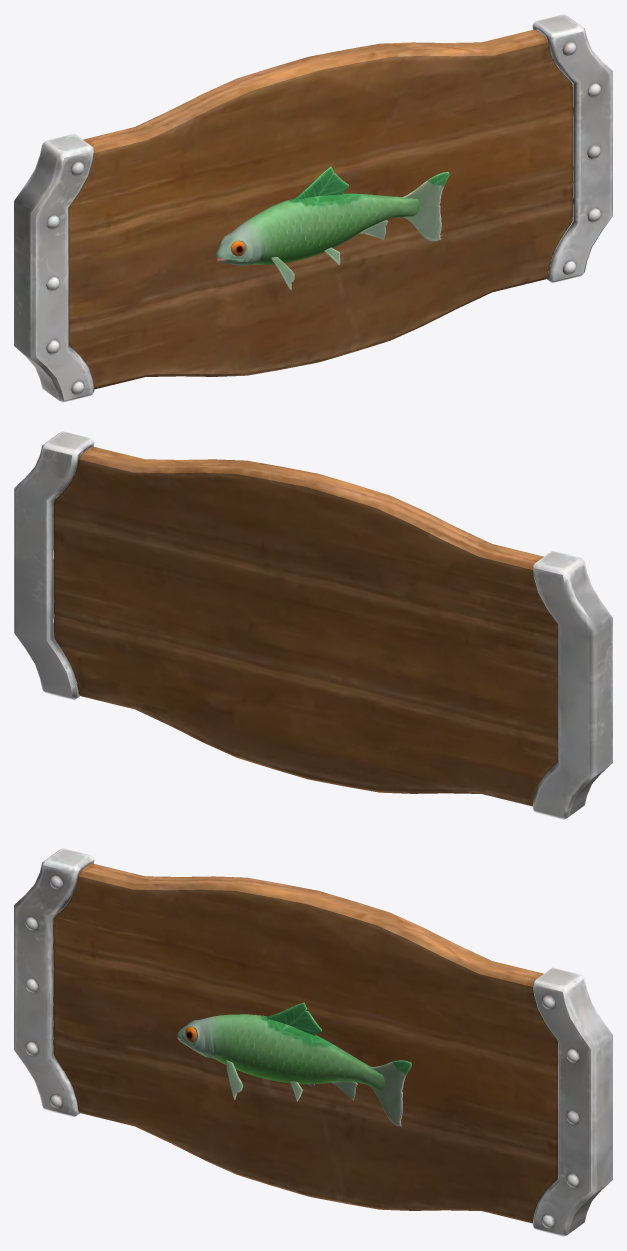
3 views of the same model, one above another, from view 1: azimuth 30°, elevation 25°; view 2: azimuth 150°, elevation 25°; view 3: azimuth 330°, elevation 25° (orthographic).
Parts seen in each view (by area): view 1: SM_Trophy_Plaque_Sardine_01_LOD0; view 2: SM_Trophy_Plaque_Sardine_01_LOD0; view 3: SM_Trophy_Plaque_Sardine_01_LOD0.
Part boxes in pixels (x1=…): SM_Trophy_Plaque_Sardine_01_LOD0: x1=14, y1=14, x2=612, y2=402; SM_Trophy_Plaque_Sardine_01_LOD0: x1=14, y1=431, x2=612, y2=819; SM_Trophy_Plaque_Sardine_01_LOD0: x1=14, y1=848, x2=612, y2=1236.
Bounding box in the file's own units: 0.6587 × 0.3223 × 0.0763.
2 materials, 2 textured.
